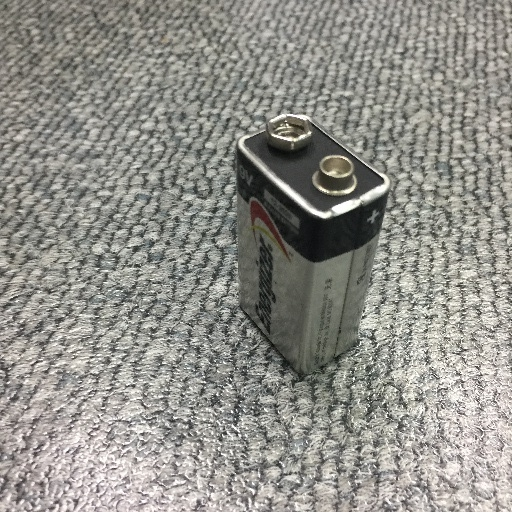Battery_3: (219, 101, 402, 388)
